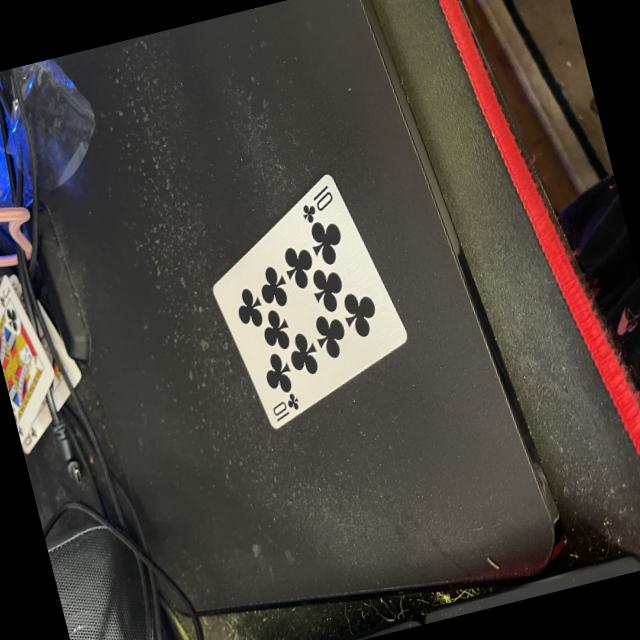10 of clubs: (170, 146, 434, 446)
